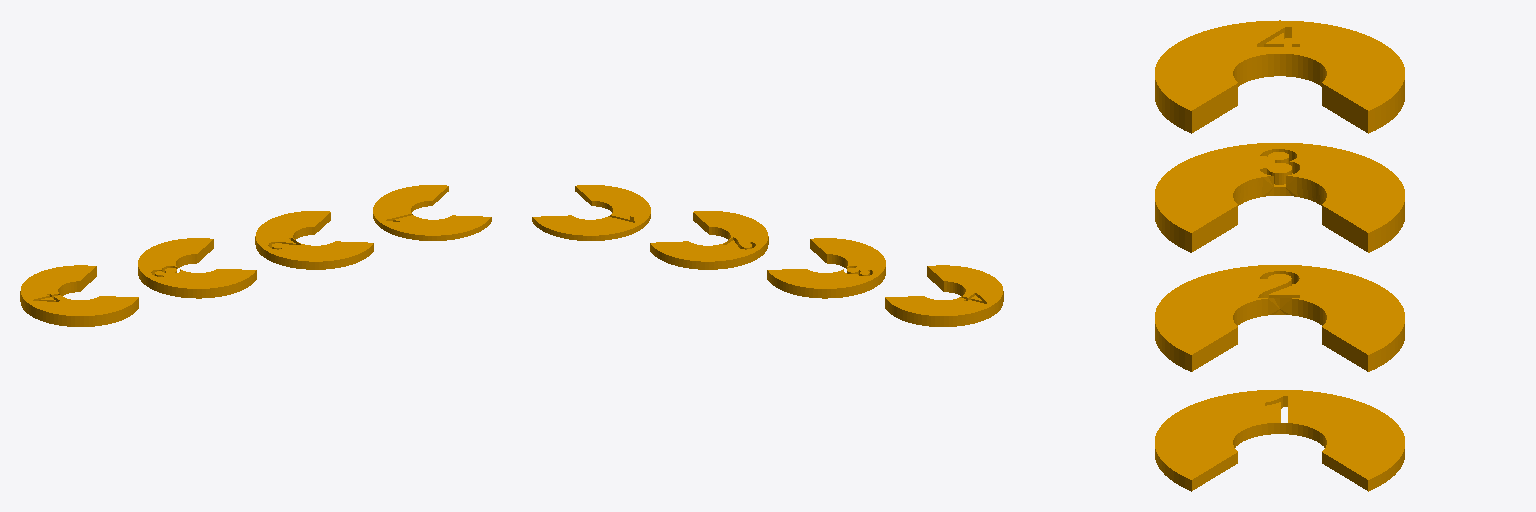
The robot description file, URDF, robot "Ball_Valve_Friction_Ring_Set":
<?xml version='1.0' encoding='utf-8'?>
<robot name="Ball_Valve_Friction_Ring_Set">
  <link name="Ball_Valve_Friction_Ring_Set">
    <inertial><origin xyz="-0.001456 0.000000 0.001000" rpy="0 0 0" /><mass value="0.0050" /><inertia ixx="1e-06" ixy="0" ixz="0" iyy="1e-06" iyz="0" izz="1e-06" /></inertial><visual>
      <origin xyz="0.000000 0.000000 0.000000" rpy="0. 0. 0." />
      <geometry>
        <mesh filename="meshes/Corpo1_Mesh.obj" scale="0.001000 0.001000 0.001000" />
      </geometry>
    </visual>
    <visual>
      <origin xyz="0.000000 0.000000 0.000000" rpy="0. 0. 0." />
      <geometry>
        <mesh filename="meshes/Corpo2_Mesh.obj" scale="0.001000 0.001000 0.001000" />
      </geometry>
    </visual>
    <visual>
      <origin xyz="0.000000 0.000000 0.000000" rpy="0. 0. 0." />
      <geometry>
        <mesh filename="meshes/Corpo3_Mesh.obj" scale="0.001000 0.001000 0.001000" />
      </geometry>
    </visual>
    <visual>
      <origin xyz="0.000000 0.000000 0.000000" rpy="0. 0. 0." />
      <geometry>
        <mesh filename="meshes/Corpo4_Mesh.obj" scale="0.001000 0.001000 0.001000" />
      </geometry>
    </visual>
  <collision><origin xyz="0.000000 0.000000 0.000000" rpy="0. 0. 0." /><geometry><mesh filename="meshes/Corpo1_Mesh.obj" scale="0.001000 0.001000 0.001000" /></geometry></collision><collision><origin xyz="0.000000 0.000000 0.000000" rpy="0. 0. 0." /><geometry><mesh filename="meshes/Corpo2_Mesh.obj" scale="0.001000 0.001000 0.001000" /></geometry></collision><collision><origin xyz="0.000000 0.000000 0.000000" rpy="0. 0. 0." /><geometry><mesh filename="meshes/Corpo3_Mesh.obj" scale="0.001000 0.001000 0.001000" /></geometry></collision><collision><origin xyz="0.000000 0.000000 0.000000" rpy="0. 0. 0." /><geometry><mesh filename="meshes/Corpo4_Mesh.obj" scale="0.001000 0.001000 0.001000" /></geometry></collision></link>
</robot>

--- What the picture shows (computed from the rendered views, not written in the file) ---
Views: 3 orthographic renders of the robot side by side, from view 1: azimuth 30°, elevation 25°; view 2: azimuth 150°, elevation 25°; view 3: azimuth 270°, elevation 25°.
Robot: Ball_Valve_Friction_Ring_Set — 1 links, 0 joints (none); root link Ball_Valve_Friction_Ring_Set; default pose: every joint at zero.
Visible links, largest first — view 1: Ball_Valve_Friction_Ring_Set; view 2: Ball_Valve_Friction_Ring_Set; view 3: Ball_Valve_Friction_Ring_Set.
Link boxes in pixels (box(x1,y1,x2,y2)): Ball_Valve_Friction_Ring_Set: box(20, 185, 491, 326); Ball_Valve_Friction_Ring_Set: box(532, 185, 1003, 326); Ball_Valve_Friction_Ring_Set: box(1155, 20, 1404, 491).
Bounding box of the posed robot: 0.0846 × 0.02 × 0.002 m (x, y, z).
Meshes: 4 distinct files referenced, 4 mesh visuals loaded (4 OBJ).
